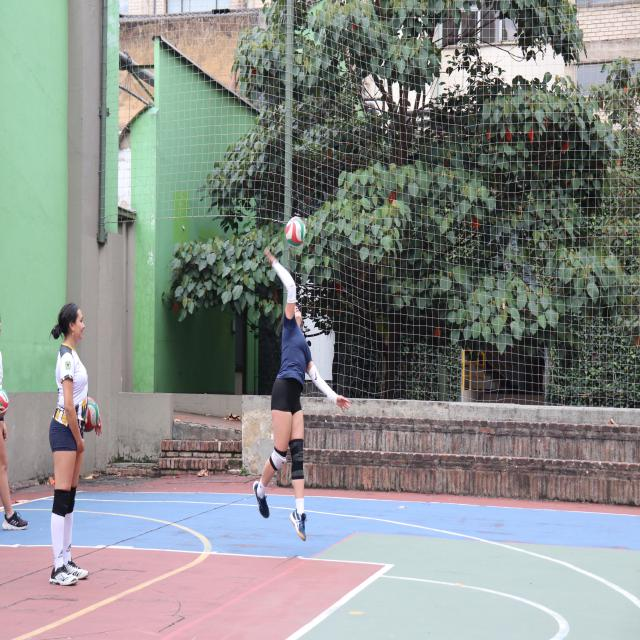volleyball: (286, 217, 306, 248), (83, 395, 99, 432)
